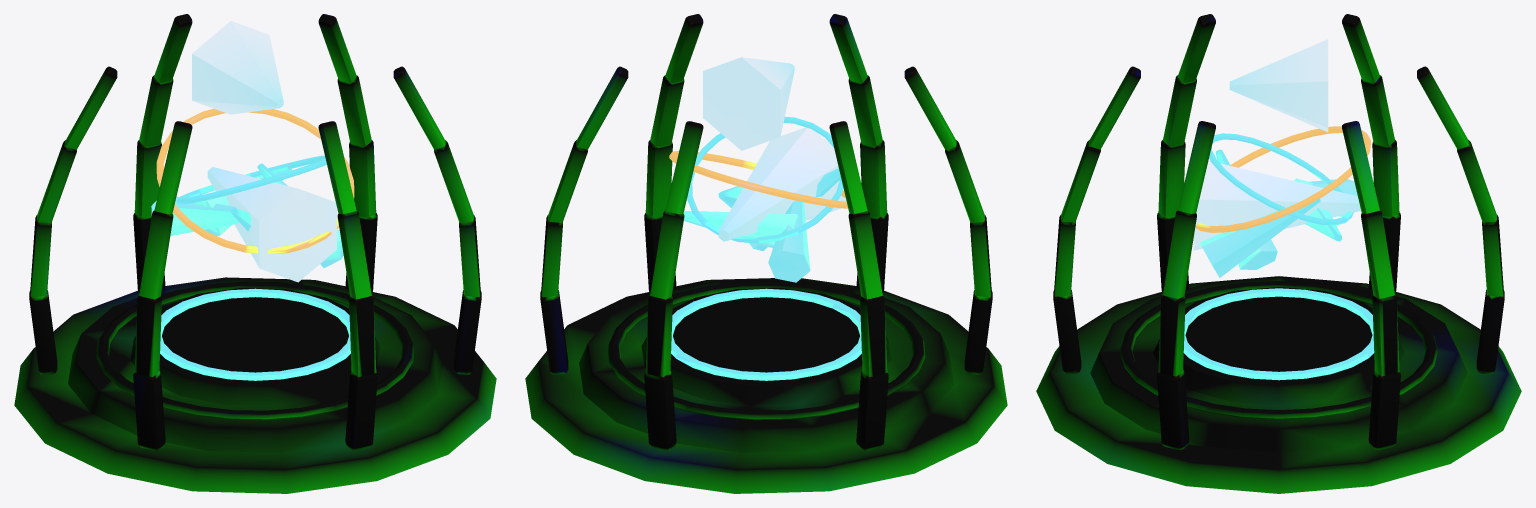
Rendered from hero_heart_altar.glb.
3 views of the same model, side by side, from view 1: azimuth 30°, elevation 25°; view 2: azimuth 150°, elevation 25°; view 3: azimuth 270°, elevation 25° (orthographic).
Parts seen in each view (by area): view 1: HeroHeartAltar; view 2: HeroHeartAltar; view 3: HeroHeartAltar.
Boxes of the visible parts, x1,y1,x2,y2 form: HeroHeartAltar: (14,14,496,493); HeroHeartAltar: (525,14,1007,493); HeroHeartAltar: (1036,14,1521,493).
Size of the model in its own units: 10.8 by 8.65 by 10.8.
